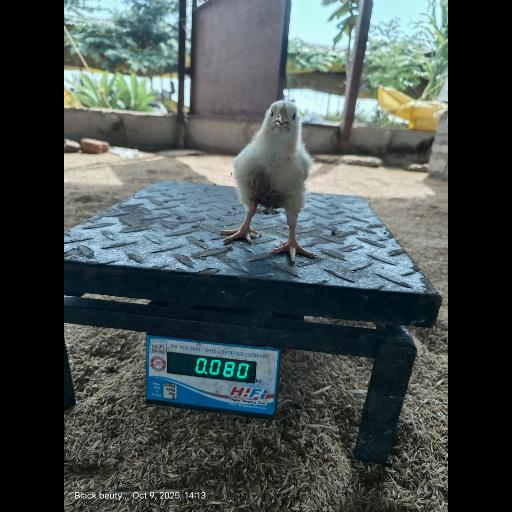chick: (220, 101, 320, 260)
